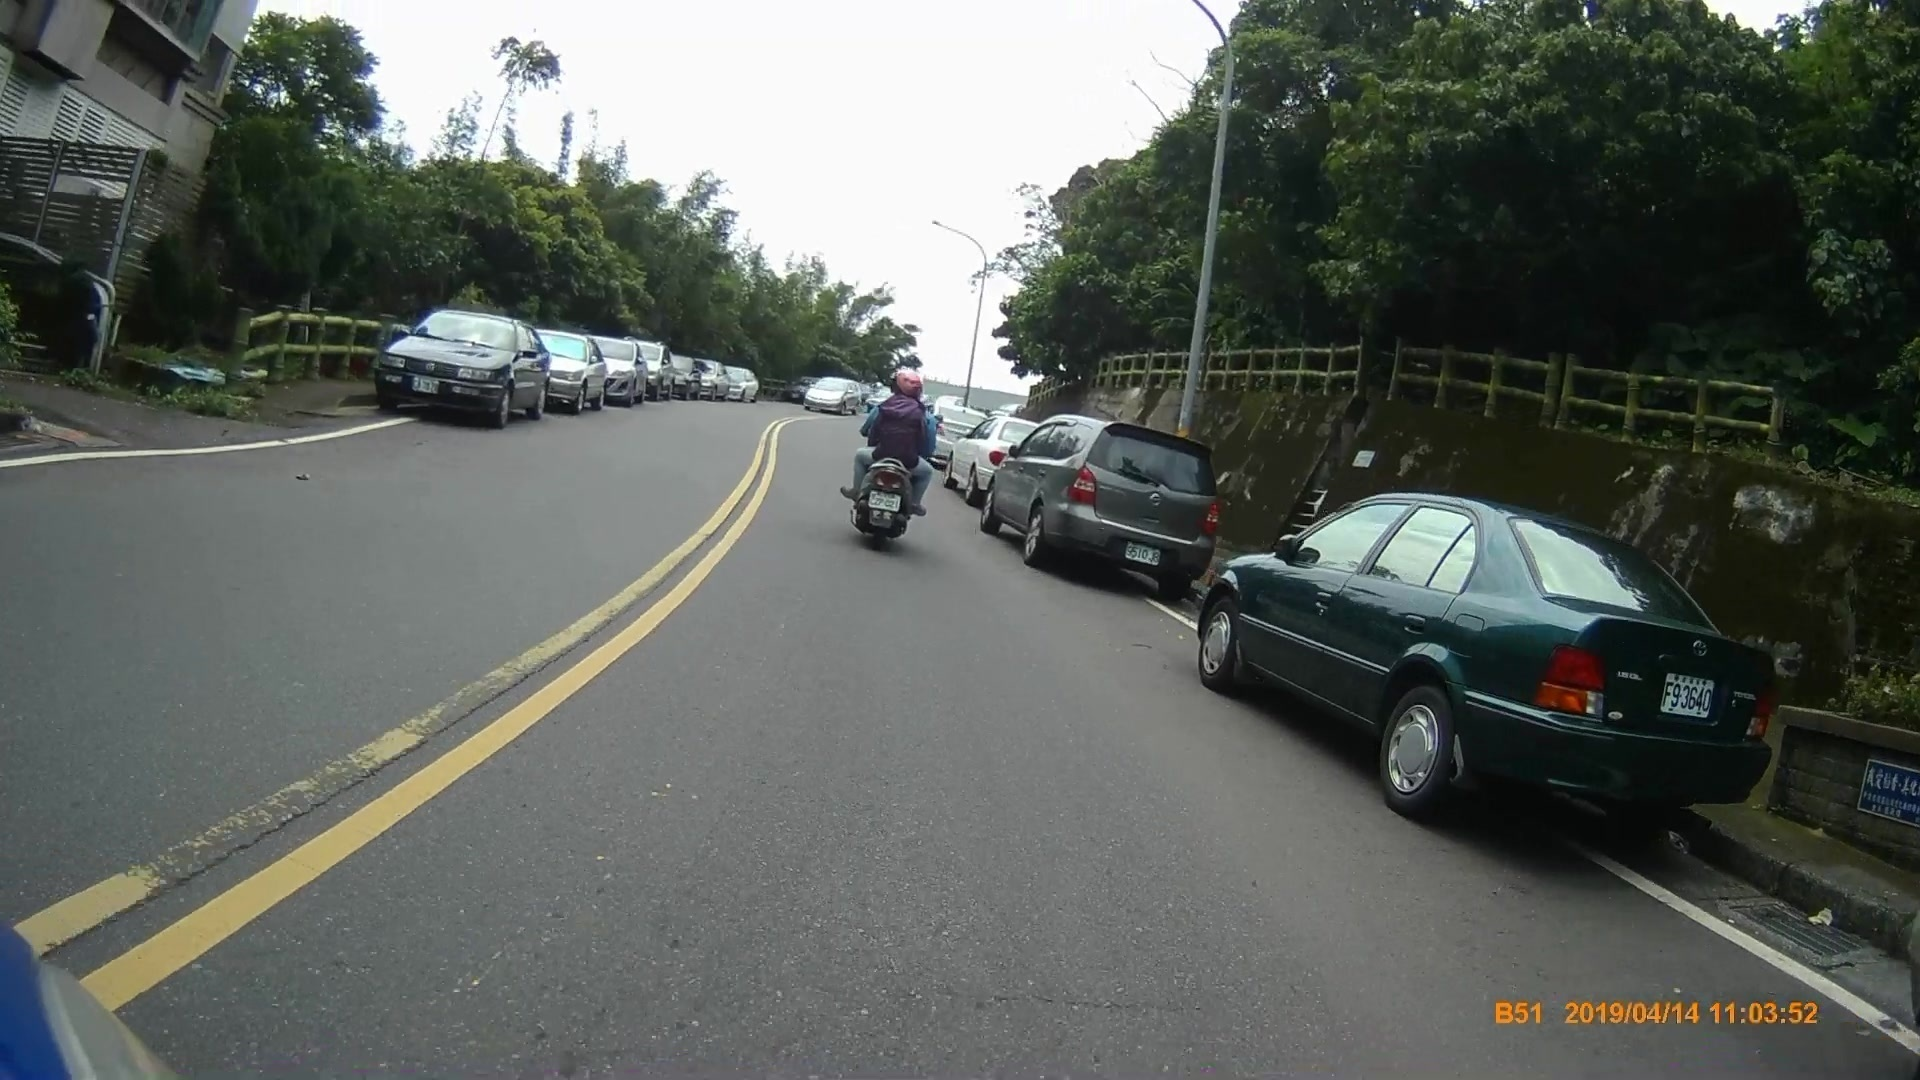License_plate: (1657, 670, 1718, 722), (864, 485, 903, 515)
